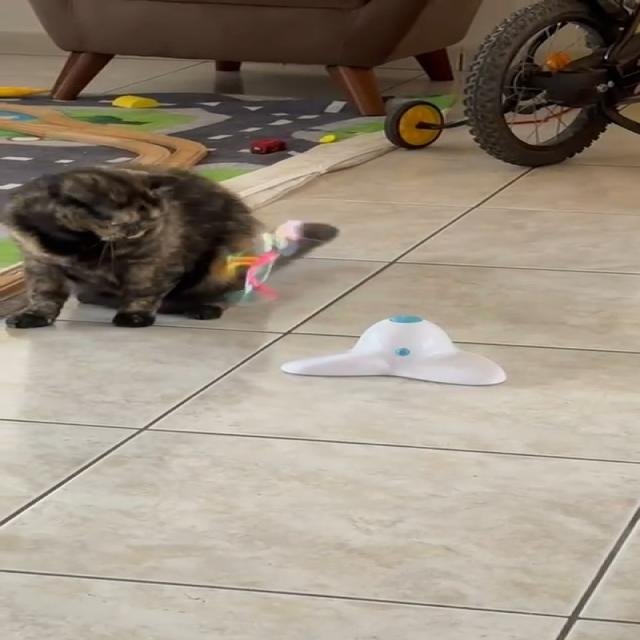authorized: (0, 164, 337, 328)
